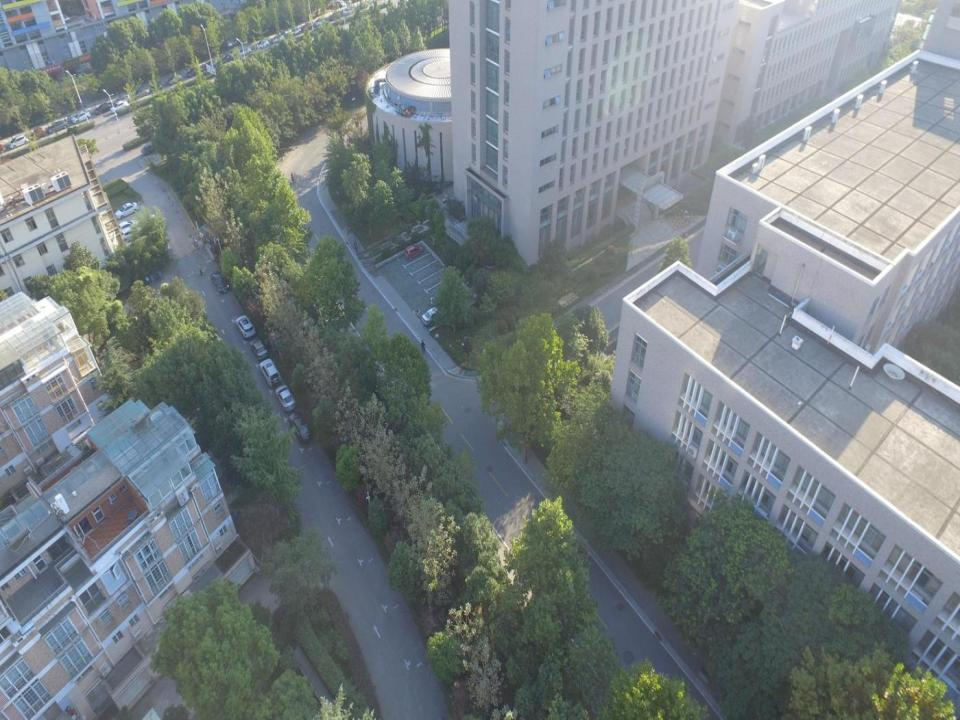car: (289, 411, 314, 444), (259, 359, 283, 388), (275, 384, 296, 410), (420, 305, 446, 326), (248, 337, 269, 361), (235, 314, 255, 339), (210, 270, 229, 294), (114, 202, 138, 219), (404, 243, 424, 260), (114, 227, 133, 244), (47, 119, 70, 133), (8, 134, 30, 148), (140, 142, 161, 156), (110, 100, 129, 114), (117, 219, 139, 231), (69, 112, 91, 124), (94, 102, 114, 115), (28, 127, 47, 140), (132, 88, 150, 99), (167, 74, 184, 85), (186, 66, 203, 77), (149, 82, 165, 92), (204, 60, 220, 70), (238, 46, 252, 56), (255, 40, 269, 50), (221, 53, 234, 63), (329, 11, 342, 20), (342, 6, 355, 15), (119, 93, 130, 103), (289, 27, 301, 36), (272, 35, 285, 43), (314, 17, 326, 25), (222, 40, 233, 48), (302, 23, 314, 30)
